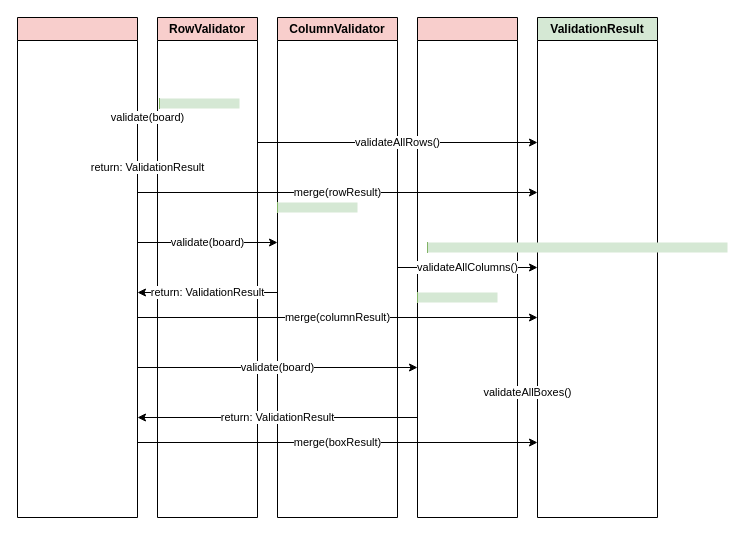
Image size: 745x535. Some labels were removed from this diagram. The box of each missing label's shape, as (x1, y1, x2, y2) in pixels:
BoxValidator: (416, 16, 518, 518)
SequentialValidator: (16, 16, 138, 518)
